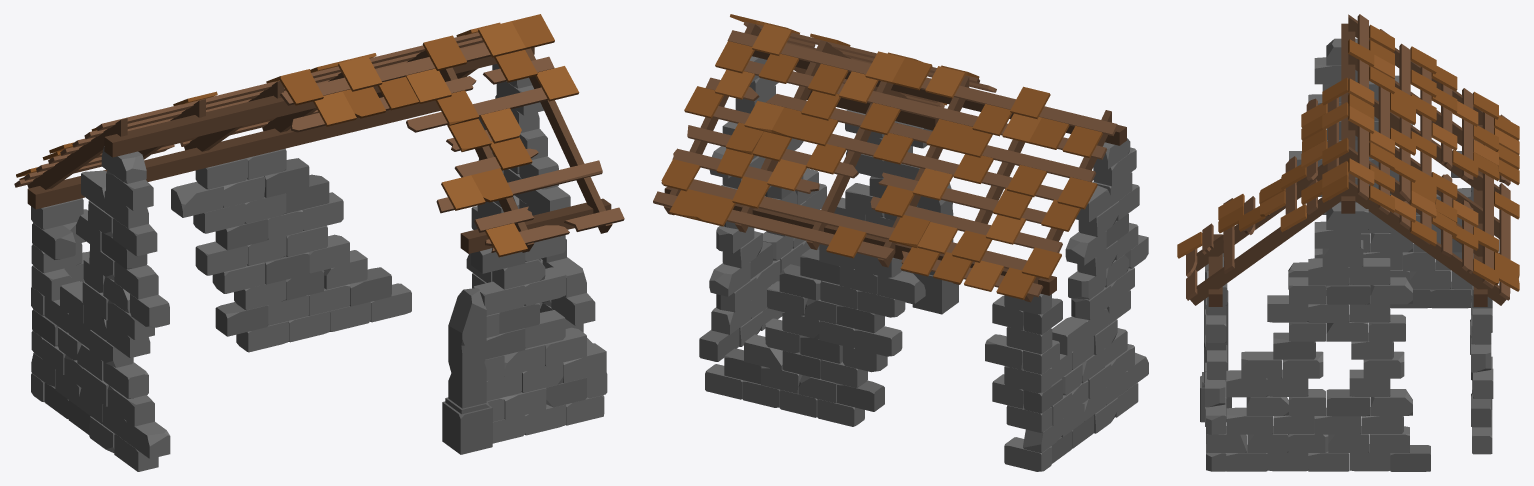
Rendered from House_03.fbx.
The picture shows the model from 3 angles, left to right: view 1: azimuth 30°, elevation 25°; view 2: azimuth 150°, elevation 25°; view 3: azimuth 270°, elevation 25°; orthographic projection. The views are drawn at different scales.
Parts seen in each view (by area): view 1: House_03_LOD0; view 2: House_03_LOD0; view 3: House_03_LOD0.
Part boxes in pixels (bbox=[...]): House_03_LOD0: bbox=[14, 14, 624, 471]; House_03_LOD0: bbox=[653, 14, 1148, 471]; House_03_LOD0: bbox=[1177, 14, 1519, 471].
Size of what is drawn, in the model's own units: 6.88 by 5.06 by 5.39.
